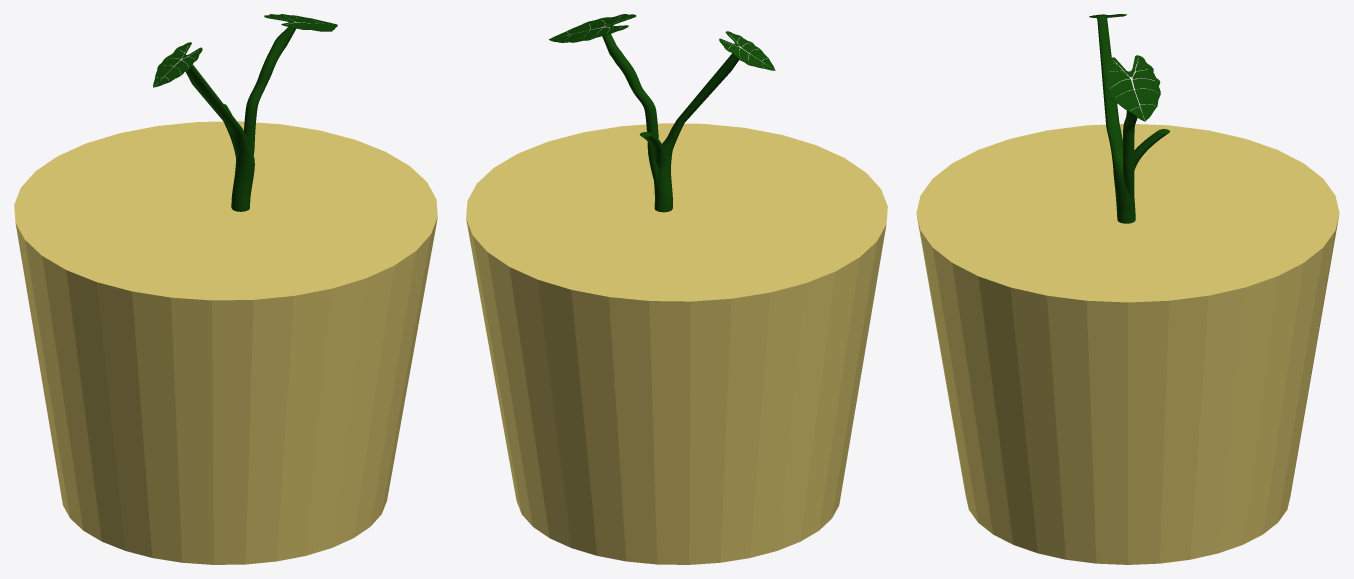
File: Alokasia4.glb
3 views of the same model, side by side, from view 1: azimuth 30°, elevation 25°; view 2: azimuth 150°, elevation 25°; view 3: azimuth 270°, elevation 25° (orthographic).
Parts seen in each view (by area): view 1: 흙.002, 잎.003; view 2: 흙.002, 잎.003; view 3: 흙.002, 잎.003.
Boxes of the visible parts, box(x1,y1,x2,y2) form: 흙.002: box(14, 121, 437, 564); 잎.003: box(153, 14, 337, 211); 흙.002: box(466, 123, 887, 564); 잎.003: box(549, 14, 775, 212); 흙.002: box(916, 124, 1339, 564); 잎.003: box(1089, 14, 1169, 223).
Bounding box in the file's own units: 0.3201 × 0.3879 × 0.3201.
